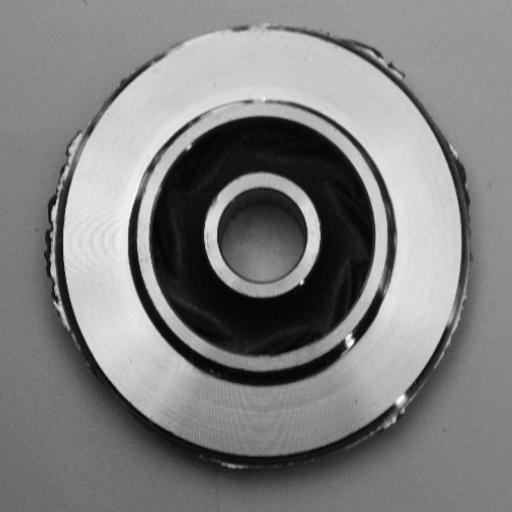casting_with_burr: (40, 22, 475, 477)
scratch: (195, 86, 279, 122), (335, 318, 364, 362)
